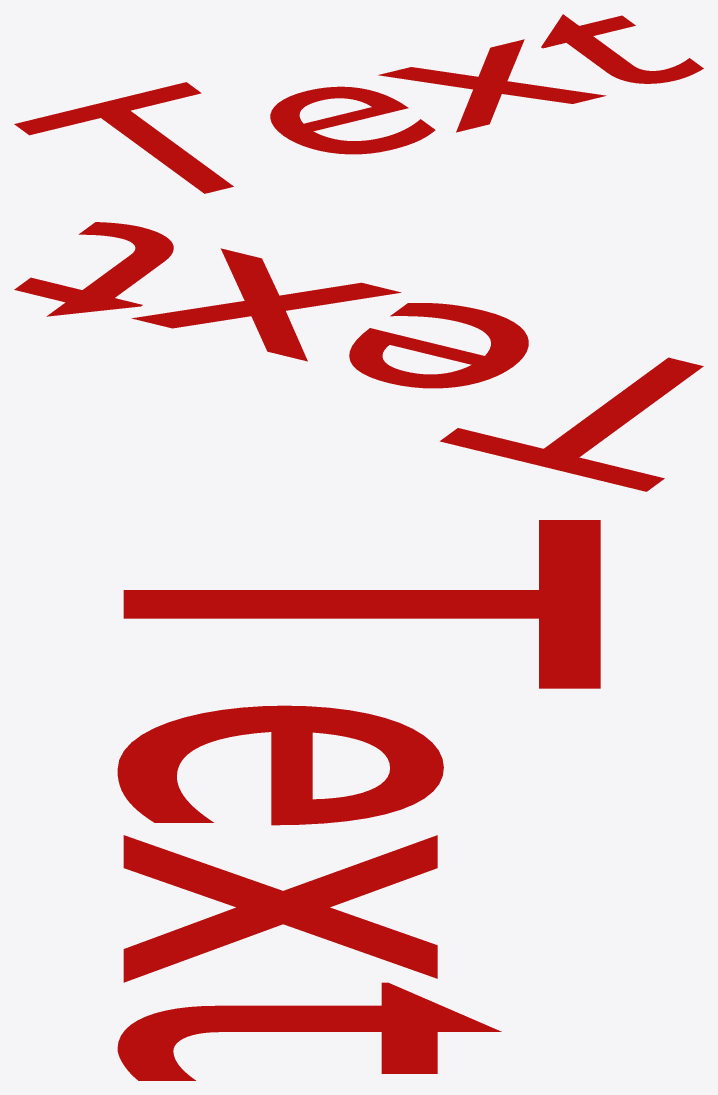
The picture shows the model from 3 angles, top to bottom: view 1: azimuth 30°, elevation 25°; view 2: azimuth 150°, elevation 25°; view 3: azimuth 270°, elevation 25°; orthographic projection. The views are drawn at different scales.
Visible parts, largest first — view 1: Text; view 2: Text; view 3: Text.
Part boxes in pixels (x1,y1,x2,y2): Text: (14, 14, 703, 193); Text: (14, 222, 703, 491); Text: (117, 520, 600, 1080).
Size of the model in its own units: 0.9908 by 0 by 0.3607.
